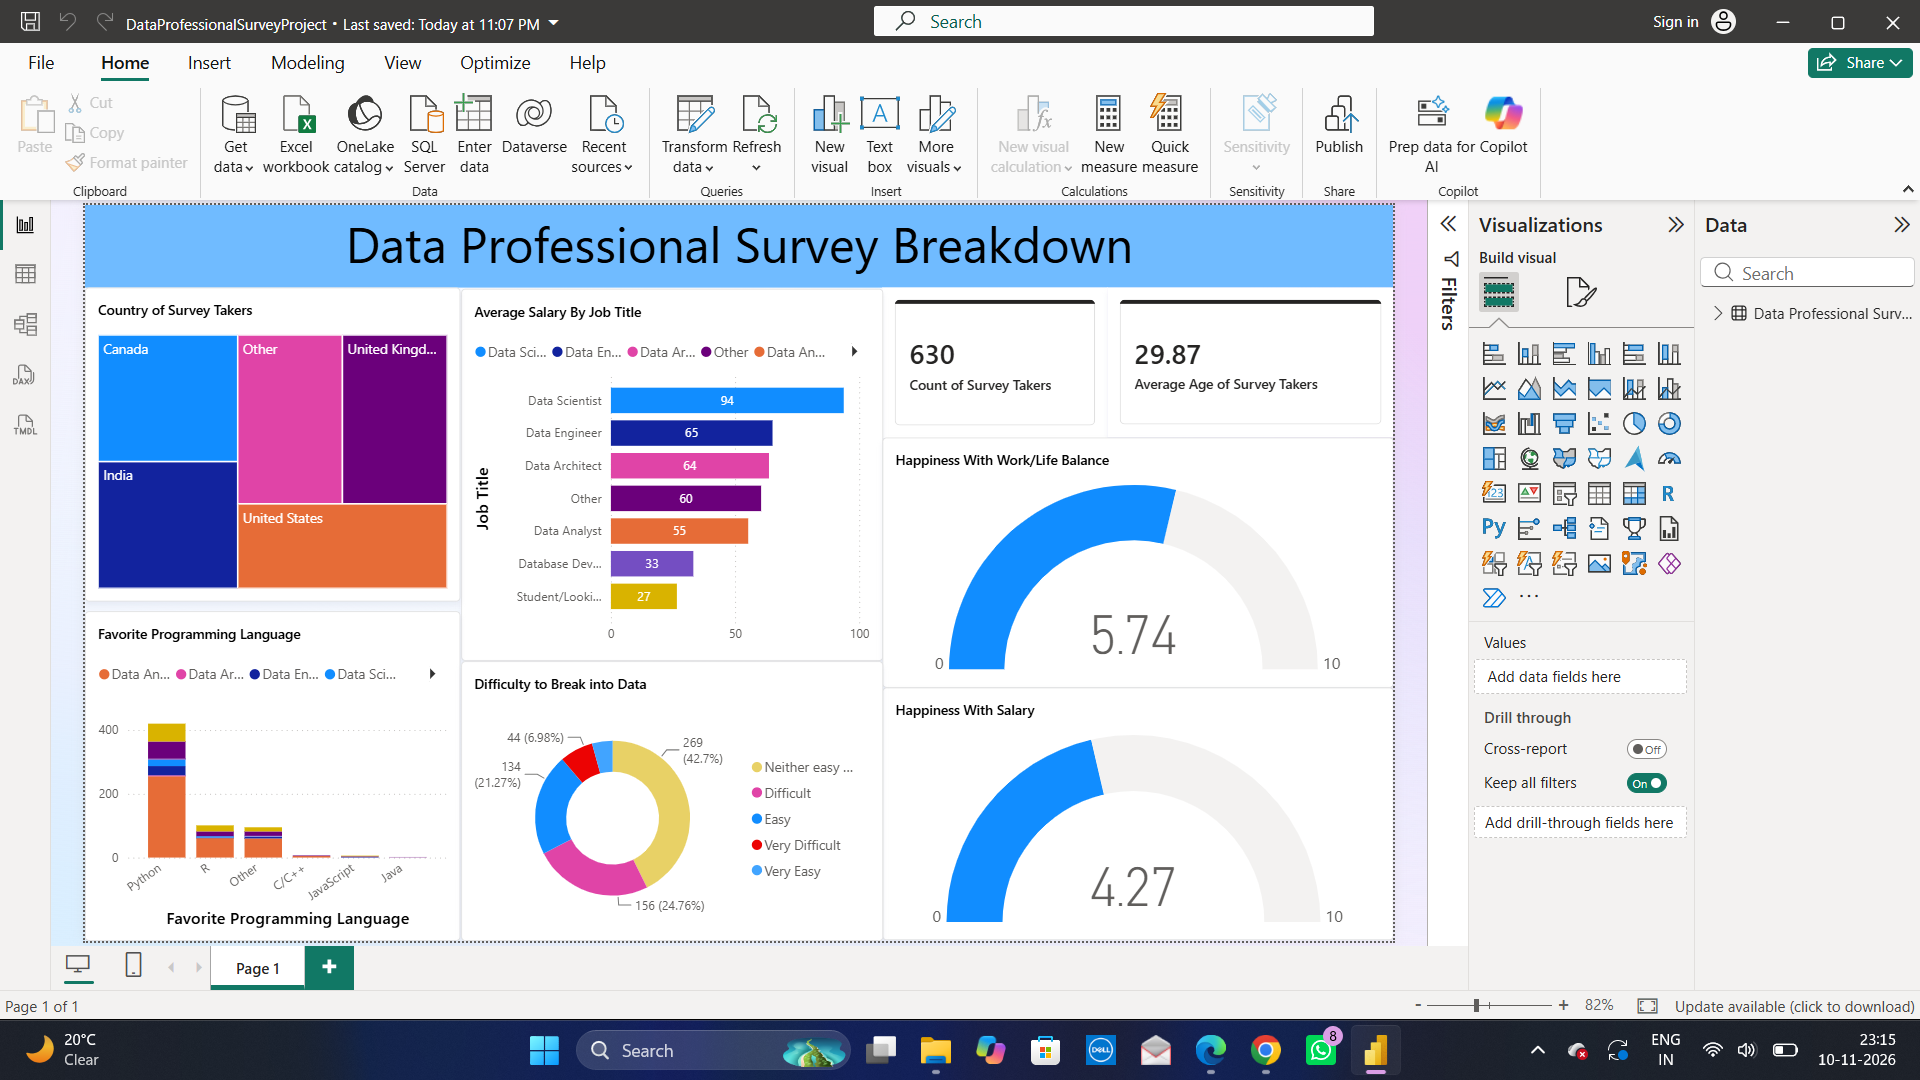

The page's visual inventory and layout, read from the dashboard file:
{"tool":"powerbi","page":{"name":"Page 1","canvas":[1280,720],"ordinal":0},"visuals":[{"type":"textbox","box":[0,0,1280.3,80.7],"z":0},{"type":"cardVisual","fields":{"Data":["Count(Data Professional Survey.Unique ID)"]},"box":[780,81.2,220,147.5],"z":1000},{"type":"cardVisual","fields":{"Data":["Avg(Data Professional Survey.Q10 - Current Age)"]},"box":[1000,81.2,280,146.2],"z":2000},{"type":"barChart","title":"Average Salary By Job Title","fields":{"Category":["Data Professional Survey.Q1 - Which Title Best Fits your Current Role?.1"],"Y":["Avg(Data Professional Survey.Average Salary)"],"Series":["Data Professional Survey.Q1 - Which Title Best Fits your Current Role?.1"]},"box":[367.5,82.5,412.5,363.8],"z":3000},{"type":"columnChart","title":"Favorite Programming Language","fields":{"Category":["Data Professional Survey.Q5 - Favorite Programming Language.1"],"Y":["CountNonNull(Data Professional Survey.Unique ID)"],"Series":["Data Professional Survey.Q1 - Which Title Best Fits your Current Role?.1"]},"box":[0,397.5,367.5,322.5],"z":4000},{"type":"treemap","title":"Country of Survey Takers","fields":{"Group":["Data Professional Survey.Q11 - Which Country do you live in?.1"],"Values":["Count(Data Professional Survey.Q11 - Which Country do you live in?.1)"]},"box":[0,81.2,367.5,307.5],"z":5000},{"type":"gauge","title":"Happiness With Work/Life Balance","fields":{"Y":["Avg(Data Professional Survey.Q6 - How Happy are you in your Current Position with the following? (Work/Life Balance))"],"MinValue":["Min(Data Professional Survey.Q6 - How Happy are you in your Current Position with the following? (Work/Life Balance))1"],"MaxValue":["Max(Data Professional Survey.Q6 - How Happy are you in your Current Position with the following? (Work/Life Balance))2"]},"box":[780,227.5,500,245],"z":6000},{"type":"gauge","title":"Happiness With Salary","fields":{"Y":["Avg(Data Professional Survey.Q6 - How Happy are you in your Current Position with the following? (Salary))"],"MinValue":["Min(Data Professional Survey.Q6 - How Happy are you in your Current Position with the following? (Salary))"],"MaxValue":["Max(Data Professional Survey.Q6 - How Happy are you in your Current Position with the following? (Salary))"]},"box":[780,472.5,500,247.5],"z":7000},{"type":"donutChart","title":"Difficulty to Break into Data","fields":{"Category":["Data Professional Survey.Q7 - How difficult was it for you to break into Data?"],"Y":["CountNonNull(Data Professional Survey.Q7 - How difficult was it for you to break into Data?)"]},"box":[367.5,446.2,412.5,273.8],"z":8000}]}

Visuals, with their boxes on the page's 1280x720 design canvas (x1, y1, x2, y2). These are canvas units, not pixel positions in the 1920x1080 screenshot, which may show the page scaled, cropped or inside an application window:
textbox: 0 0 1280 81
cardVisual - Count(Data Professional Survey.Unique ID): 780 81 1000 229
cardVisual - Avg(Data Professional Survey.Q10 - Current Age): 1000 81 1280 227
"Average Salary By Job Title" barChart: 368 82 780 446
"Favorite Programming Language" columnChart: 0 398 368 720
"Country of Survey Takers" treemap: 0 81 368 389
"Happiness With Work/Life Balance" gauge: 780 228 1280 472
"Happiness With Salary" gauge: 780 472 1280 720
"Difficulty to Break into Data" donutChart: 368 446 780 720
